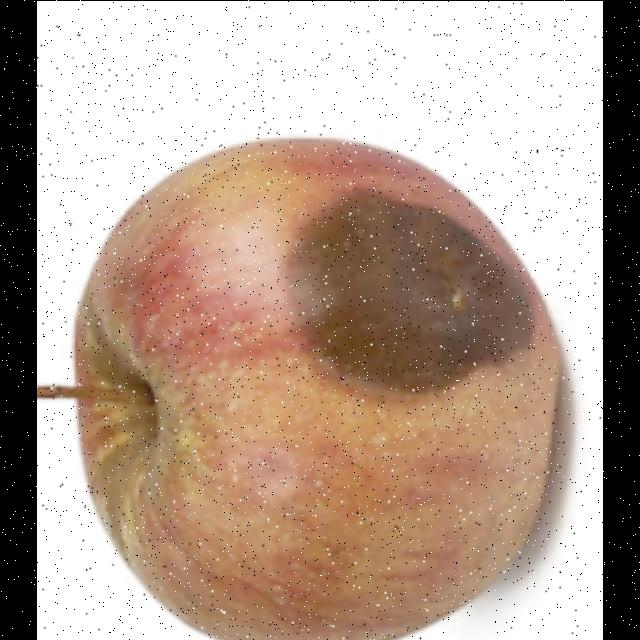Apel Tidak Segar: (67, 132, 563, 640)
